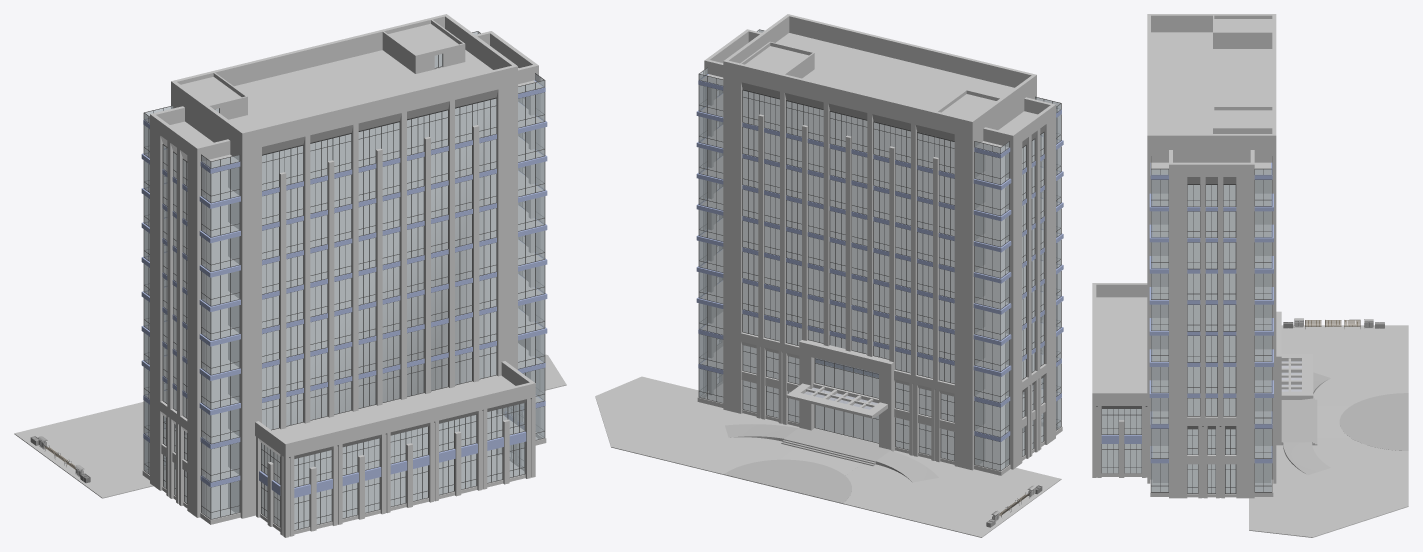
3 renders of one model, left to right at view 1: azimuth 30°, elevation 25°; view 2: azimuth 150°, elevation 25°; view 3: azimuth 270°, elevation 25°, orthographic. The views are drawn at different scales.
Parts seen in each view (by area): view 1: Object10612; view 2: Object10612; view 3: Object10612.
Boxes of the visible parts, bbox=[...] form: Object10612: bbox=[14, 14, 566, 537]; Object10612: bbox=[595, 14, 1063, 537]; Object10612: bbox=[1092, 14, 1408, 537].
Bounding box in the file's own units: 6572 × 5045 × 4145.
